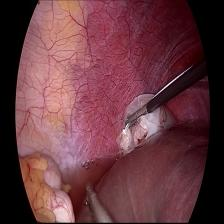Grasper: (123, 103, 149, 132)
Irrigator: (84, 177, 98, 209)
Specimen Bag: (116, 89, 180, 158)
